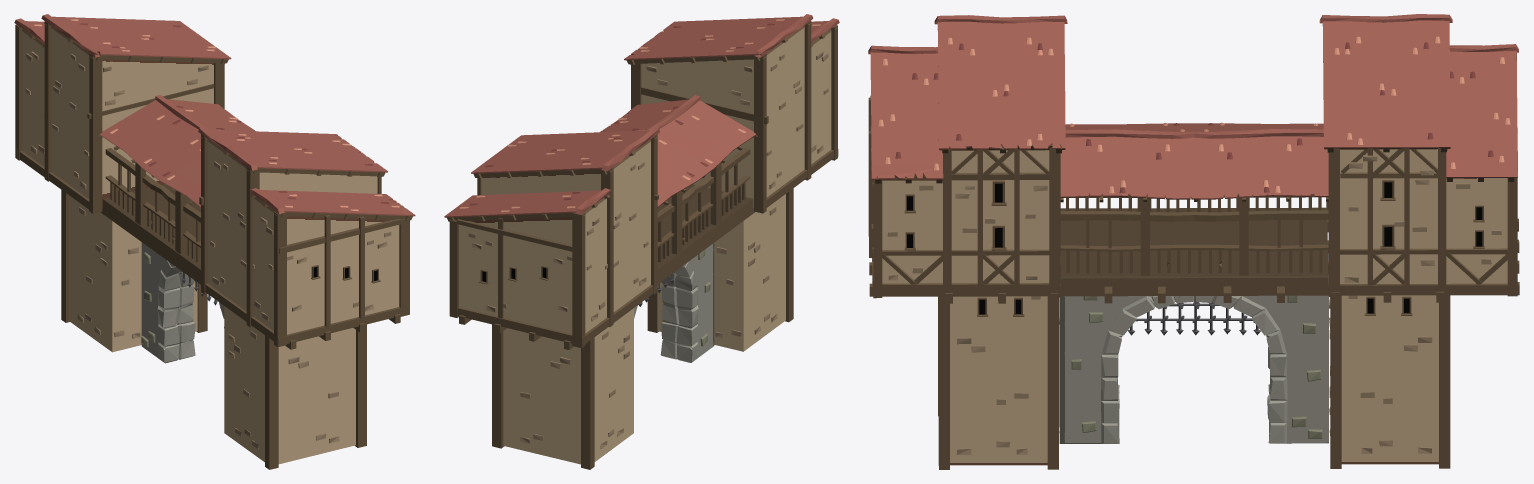
File: TwP_bld_Gate_House_01.fbx
3 views of the same model, side by side, from view 1: azimuth 30°, elevation 25°; view 2: azimuth 150°, elevation 25°; view 3: azimuth 270°, elevation 25° (orthographic). The views are drawn at different scales.
Parts seen in each view (by area): view 1: TwP_bld_Hause_Arc_01; view 2: TwP_bld_Hause_Arc_01; view 3: TwP_bld_Hause_Arc_01, TwP_bld_Lattice_01.
Boxes of the visible parts, left/top/right/bottom form: TwP_bld_Hause_Arc_01: left=14, top=14, right=415, bottom=469; TwP_bld_Hause_Arc_01: left=444, top=14, right=839, bottom=469; TwP_bld_Hause_Arc_01: left=868, top=14, right=1519, bottom=469; TwP_bld_Lattice_01: left=1128, top=301, right=1260, bottom=335.
Bounding box in the file's own units: 6.3 × 13.1 × 20.14.
Materials: 1 (1 with a texture image).
